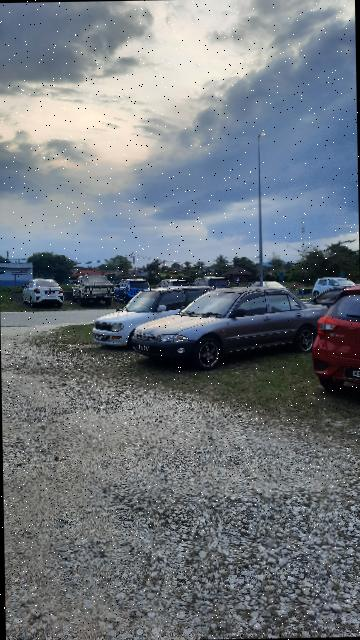License_Plate: (140, 345, 152, 352), (95, 335, 106, 342), (45, 291, 57, 296)
car: (133, 287, 330, 371), (92, 288, 215, 351), (21, 276, 65, 311), (72, 276, 115, 308)
